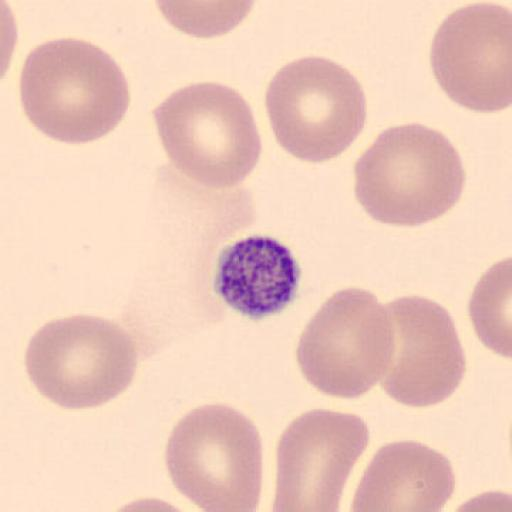Platelet: (210, 232, 306, 321)
RBC: (17, 35, 132, 147), (352, 120, 466, 228), (152, 79, 262, 190), (294, 284, 396, 401), (263, 54, 370, 164), (22, 312, 139, 412), (163, 400, 265, 511), (374, 294, 468, 408), (272, 406, 370, 512), (428, 0, 512, 114), (348, 437, 457, 512), (468, 254, 512, 360), (152, 0, 258, 39), (102, 493, 208, 512), (443, 488, 512, 512), (1, 0, 20, 79)
